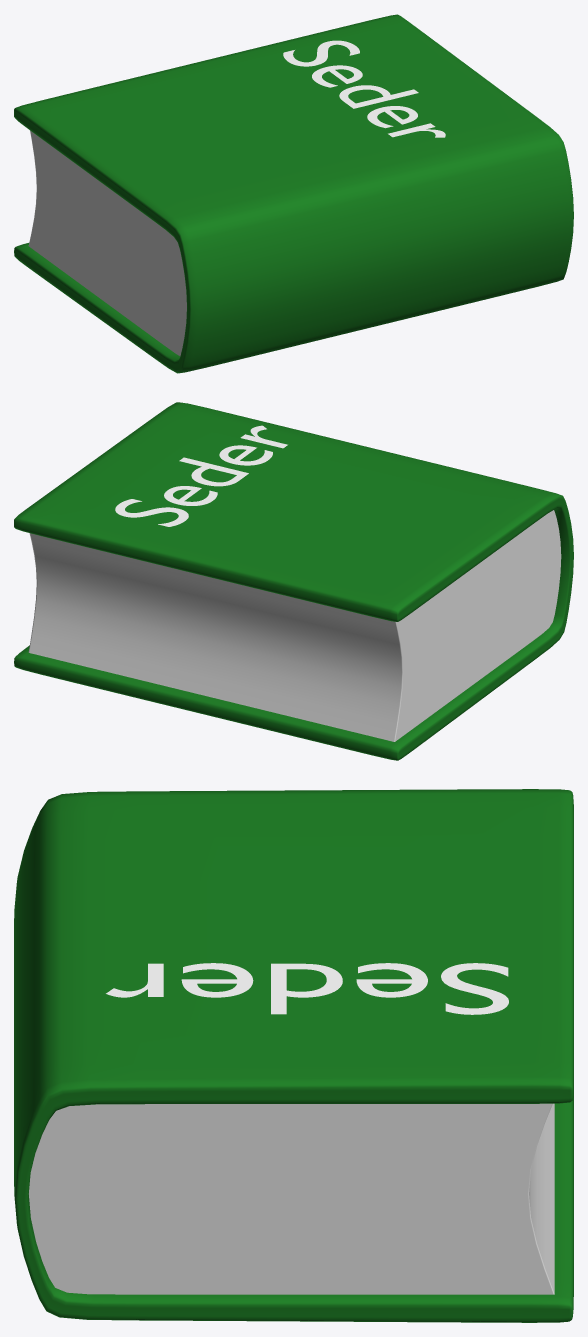
File: LibroVERDE.fbx
3 views of the same model, one above another, from view 1: azimuth 30°, elevation 25°; view 2: azimuth 150°, elevation 25°; view 3: azimuth 270°, elevation 25° (orthographic). The views are drawn at different scales.
Parts seen in each view (by area): view 1: Libro; view 2: Libro; view 3: Libro.
Part boxes in pixels (x1,y1,x2,y2): Libro: [14, 14, 573, 373]; Libro: [14, 402, 573, 760]; Libro: [14, 789, 573, 1322].
Size of the model in its own units: 50 by 20 by 40.
